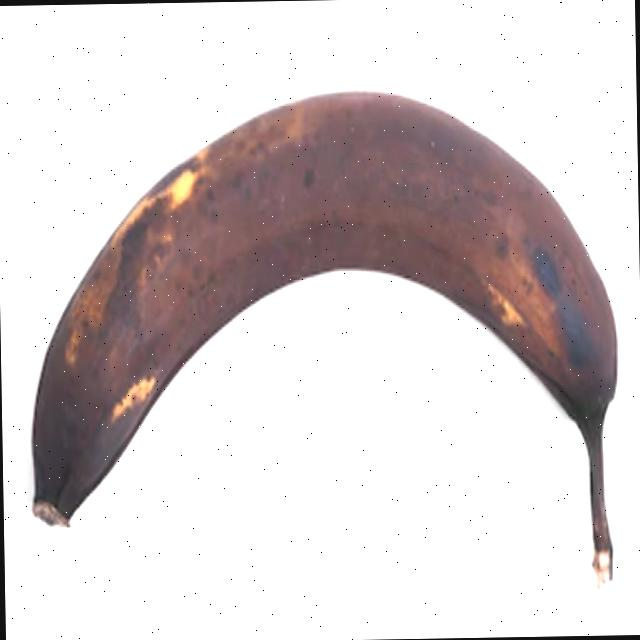rotten banana: (29, 34, 632, 616)
